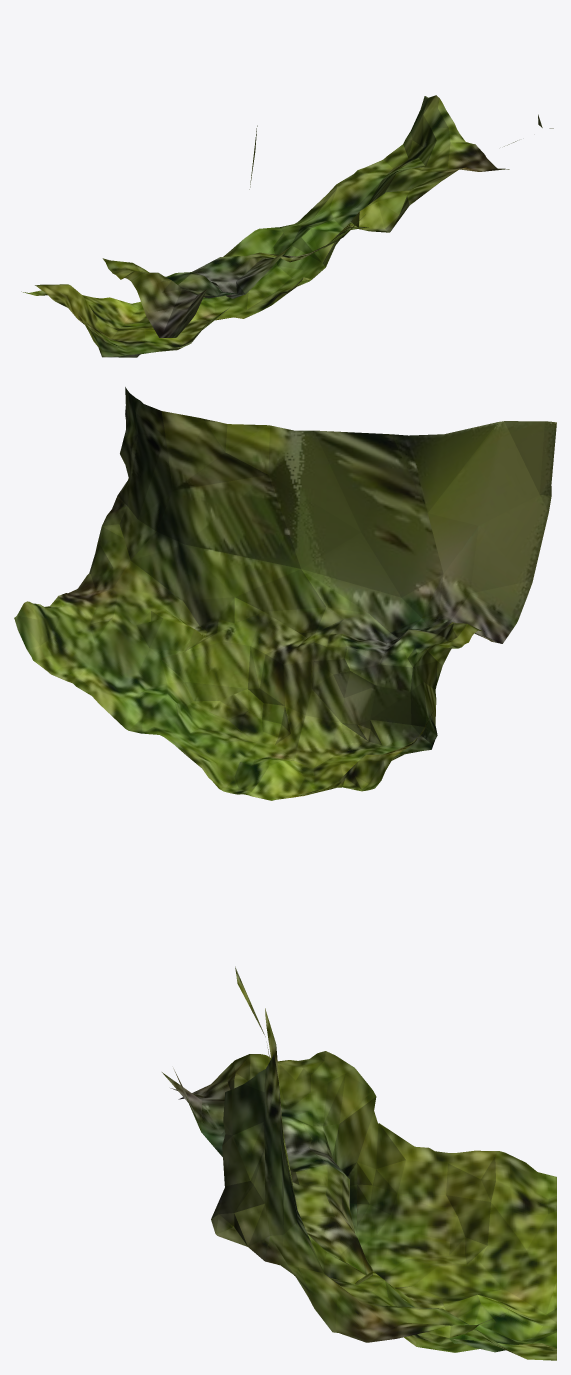
3 renders of one model, top to bottom at view 1: azimuth 30°, elevation 25°; view 2: azimuth 150°, elevation 25°; view 3: azimuth 270°, elevation 25°, orthographic. The views are drawn at different scales.
Size of the model in its own units: 1.67 by 1.22 by 1.46.
Materials: 3 (3 with a texture image).
